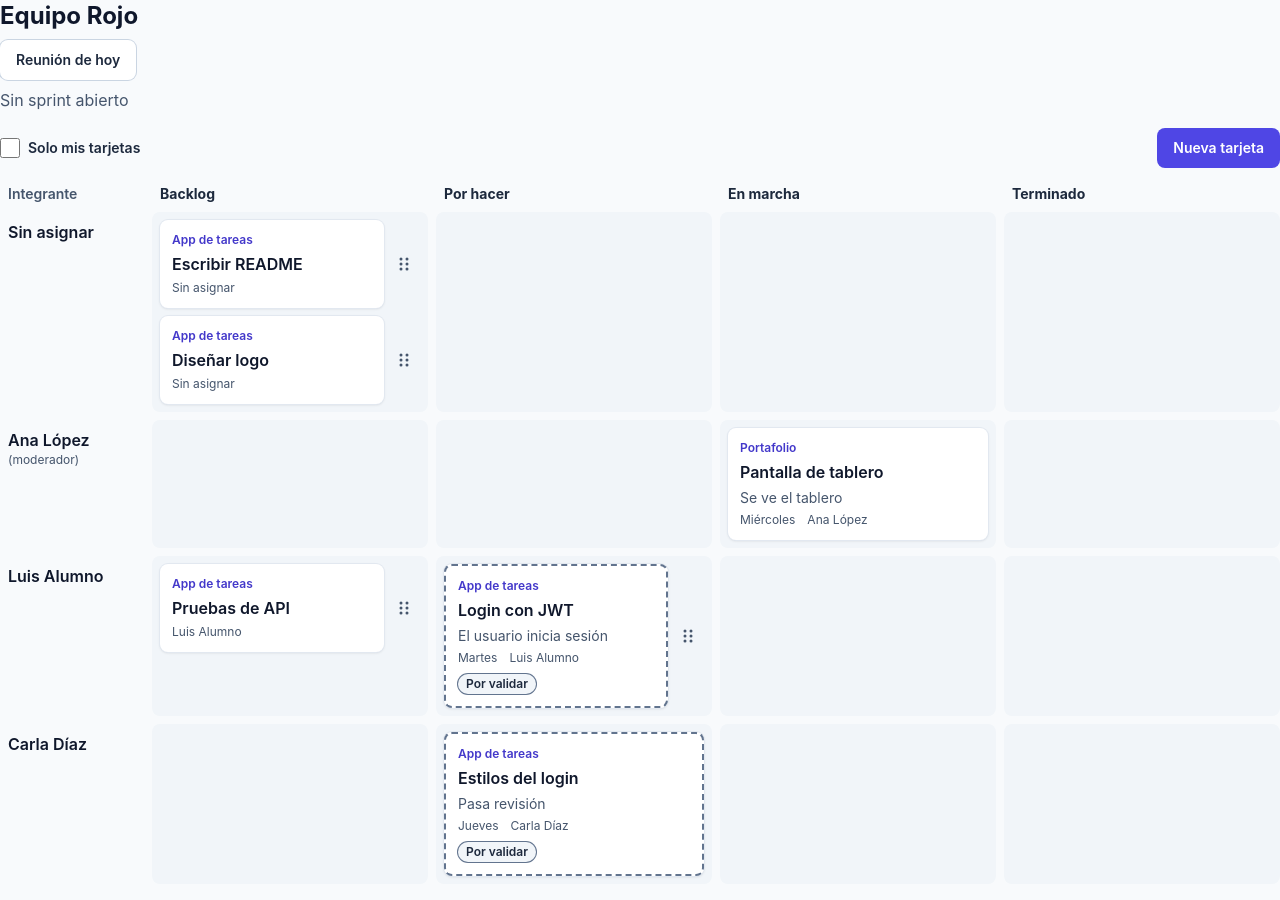
Test: CardDialog: create › asks for the task before sending anything
The image size is (1280, 900).
Click the button "Nueva tarjeta" at (1219, 148), box [1157,128,1279,168]
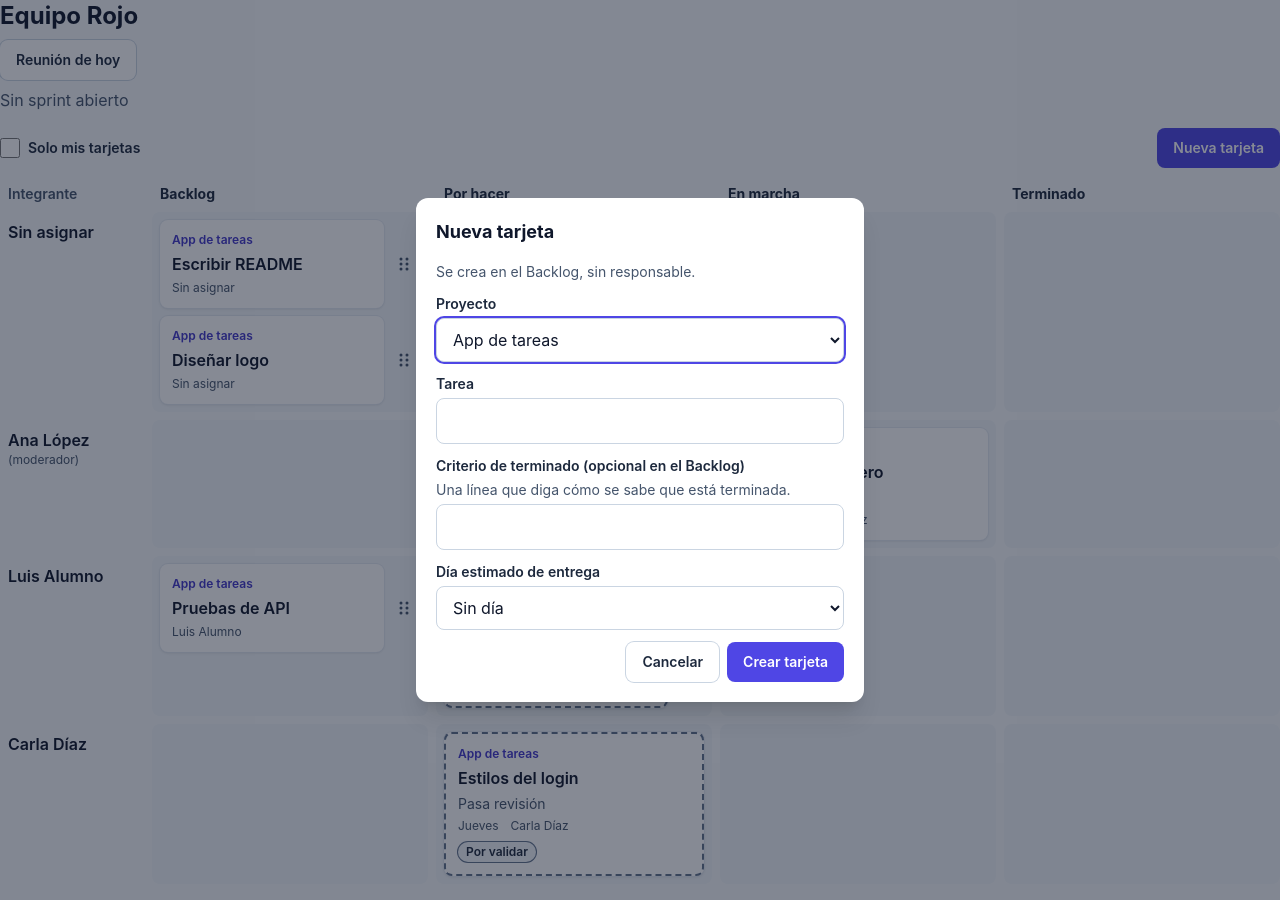
Click the button "Crear tarjeta" at (786, 662), box [727,642,844,682]
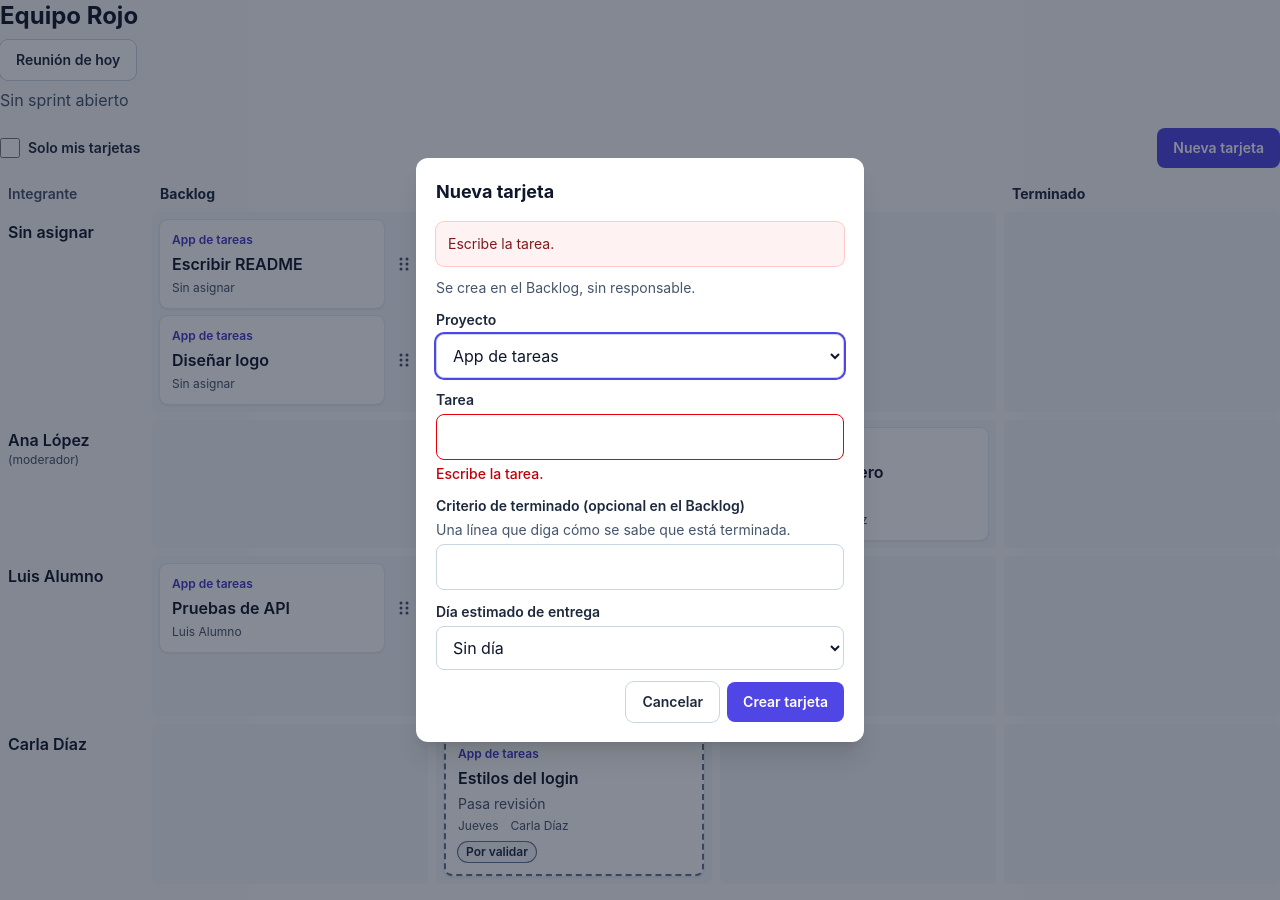
expect the message reads "Escribe la tarea.": met, box [448,235,554,252]
